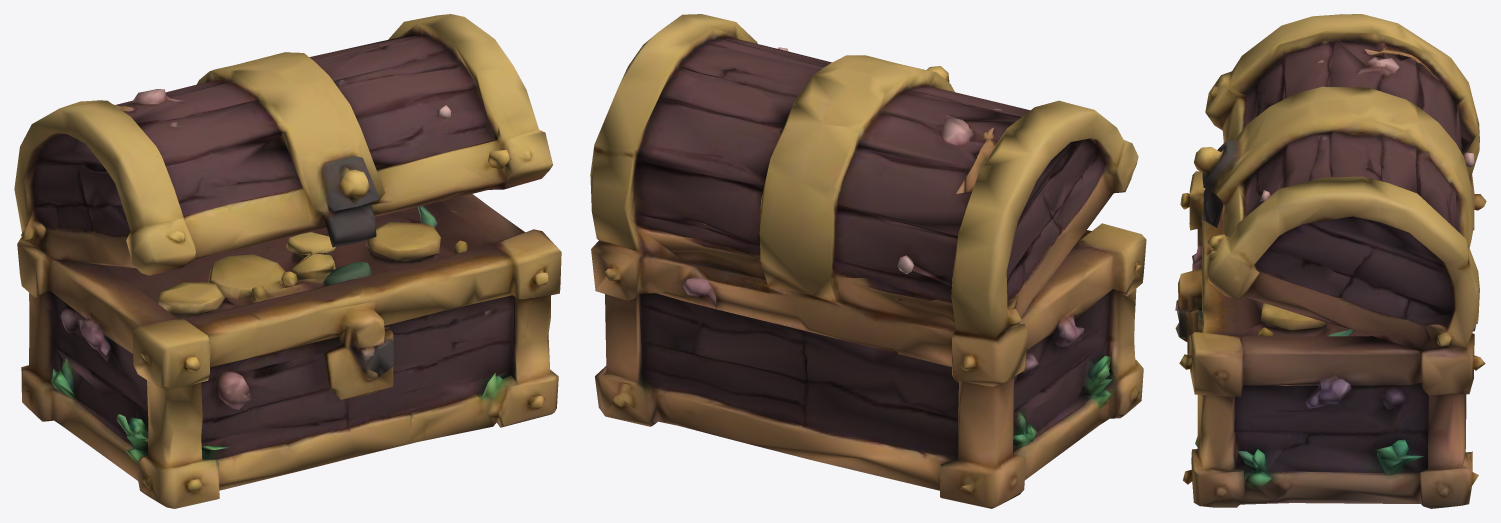
Rendered from junk-chest.glb.
3 views of the same model, side by side, from view 1: azimuth 30°, elevation 25°; view 2: azimuth 150°, elevation 25°; view 3: azimuth 270°, elevation 25° (orthographic). The views are drawn at different scales.
Visible parts, largest first — view 1: tripo_node_c7bf5d9d-804a-4016-b522-0fb9a5984d48; view 2: tripo_node_c7bf5d9d-804a-4016-b522-0fb9a5984d48; view 3: tripo_node_c7bf5d9d-804a-4016-b522-0fb9a5984d48.
Boxes of the visible parts, x1,y1,x2,y2 form: tripo_node_c7bf5d9d-804a-4016-b522-0fb9a5984d48: (14,14,561,508); tripo_node_c7bf5d9d-804a-4016-b522-0fb9a5984d48: (590,14,1146,508); tripo_node_c7bf5d9d-804a-4016-b522-0fb9a5984d48: (1175,14,1486,508).
Bounding box in the file's own units: 0.998 × 0.7753 × 0.6897.
Materials: 1 (1 with a texture image).
